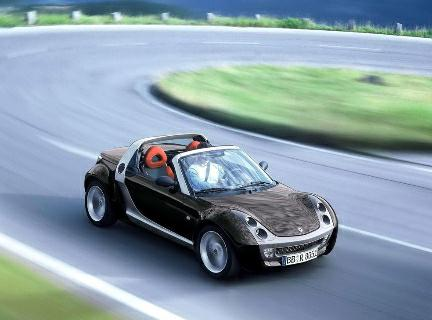smart-roadster: (86, 127, 334, 282)
